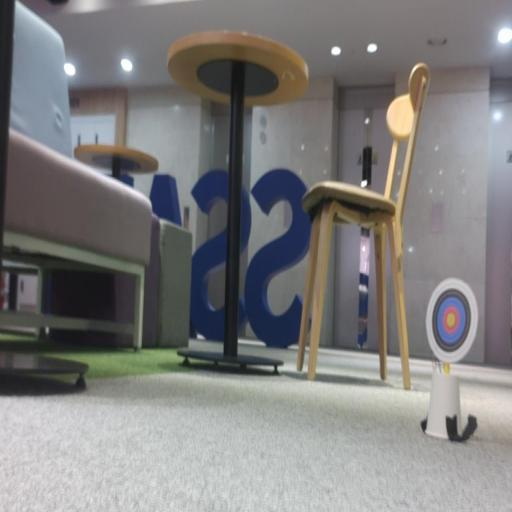target: (426, 277, 478, 363)
